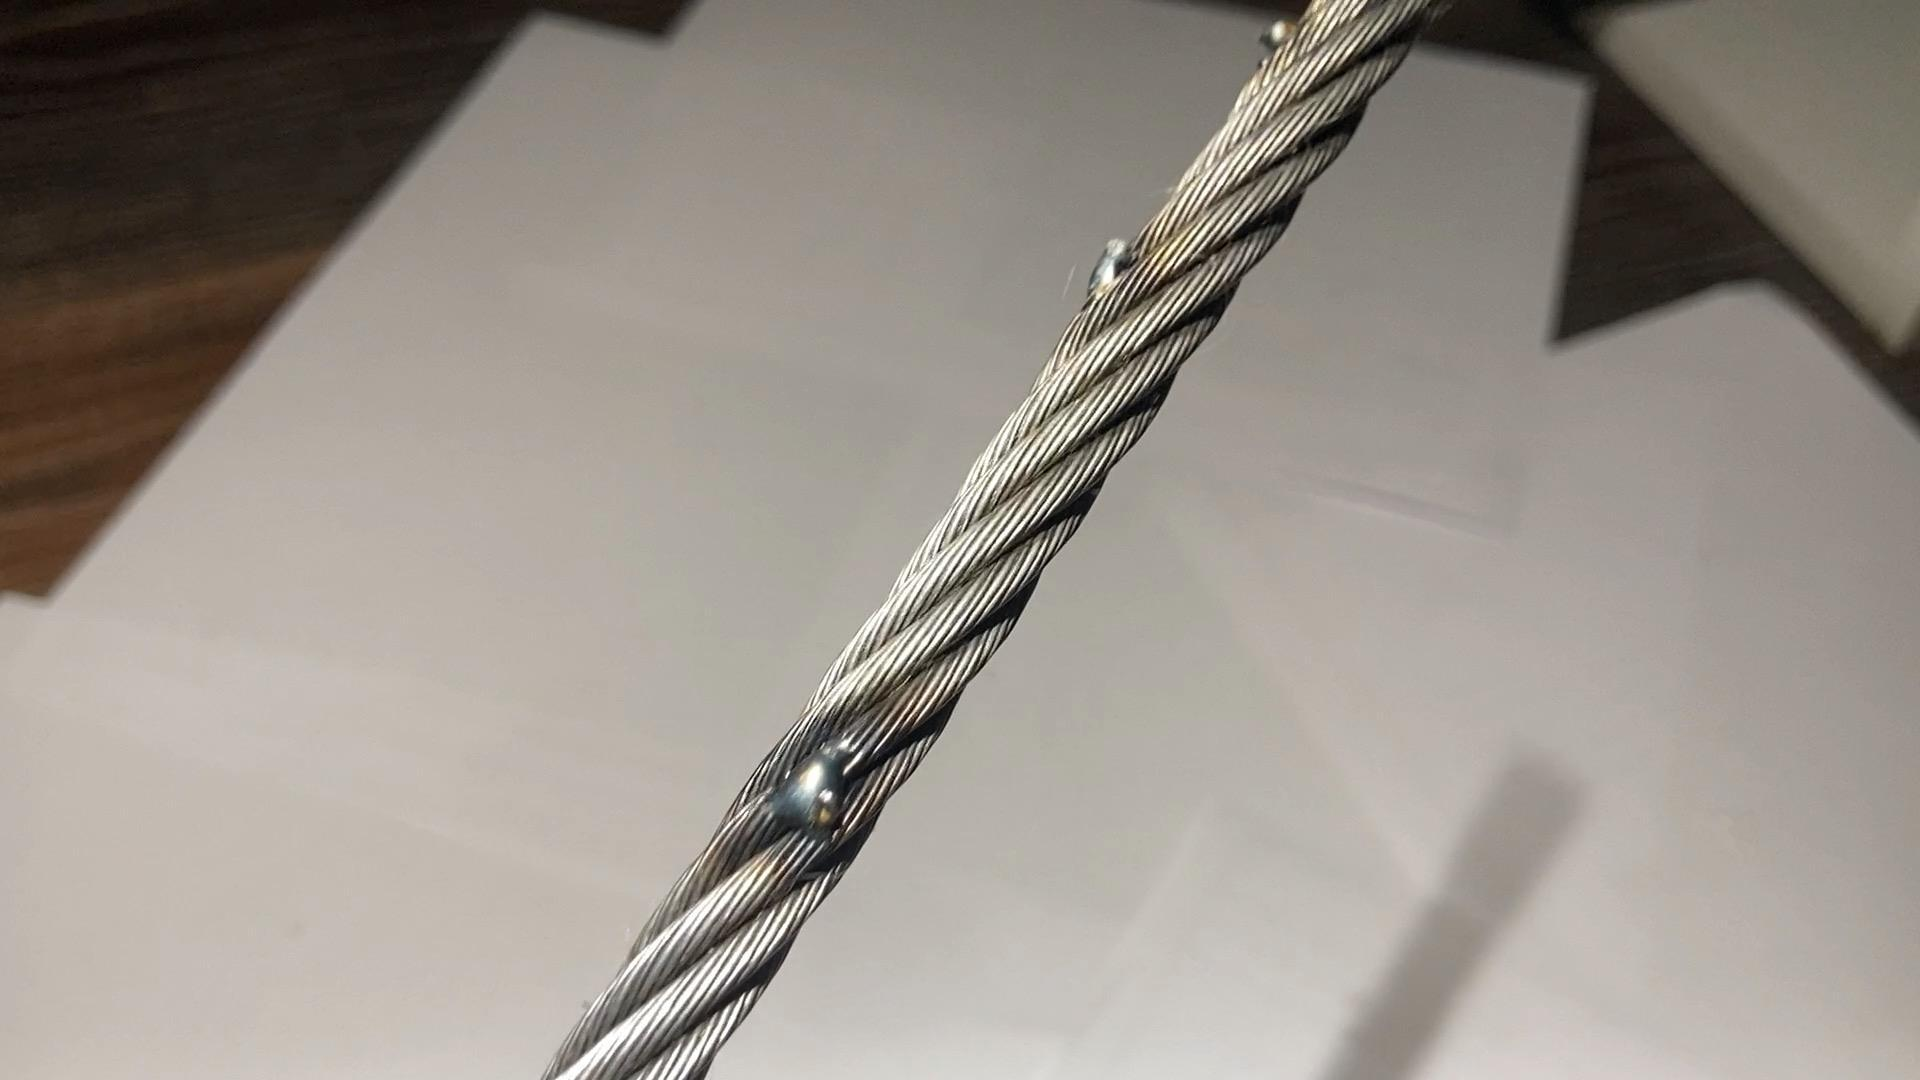thunderbolt: (767, 740, 874, 851)
